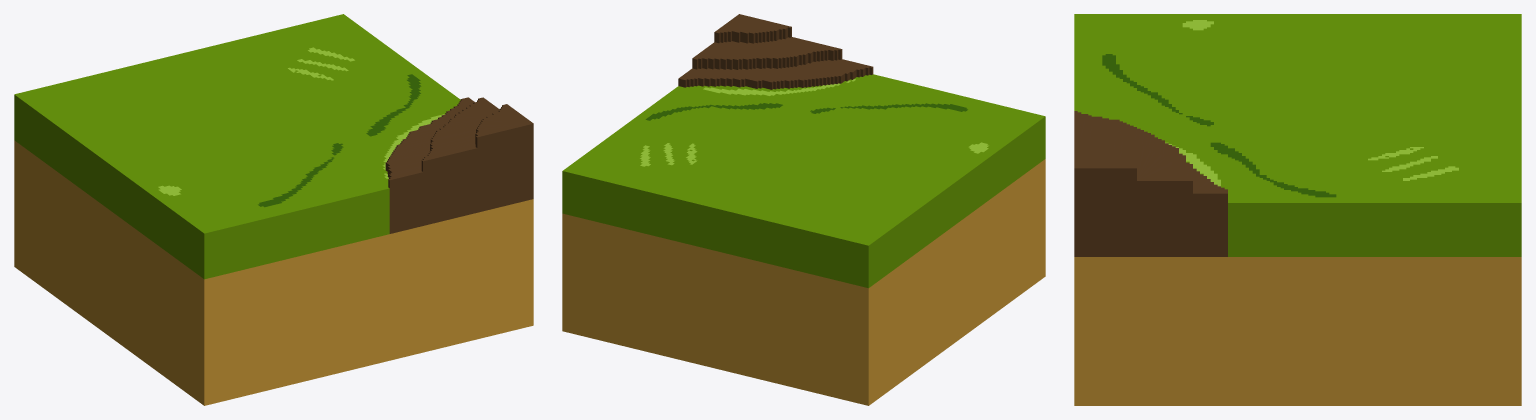
The picture shows the model from 3 angles, left to right: view 1: azimuth 30°, elevation 25°; view 2: azimuth 150°, elevation 25°; view 3: azimuth 270°, elevation 25°; orthographic projection. The views are drawn at different scales.
Visible parts, largest first — view 1: 15O; view 2: 15O; view 3: 15O.
Part boxes in pixels (left/top/right/bottom): 15O: left=14, top=14, right=533, bottom=405; 15O: left=562, top=14, right=1045, bottom=405; 15O: left=1074, top=14, right=1521, bottom=405.
Bounding box in the file's own units: 12.8 × 7.5 × 12.8.
1 material, 1 textured.
